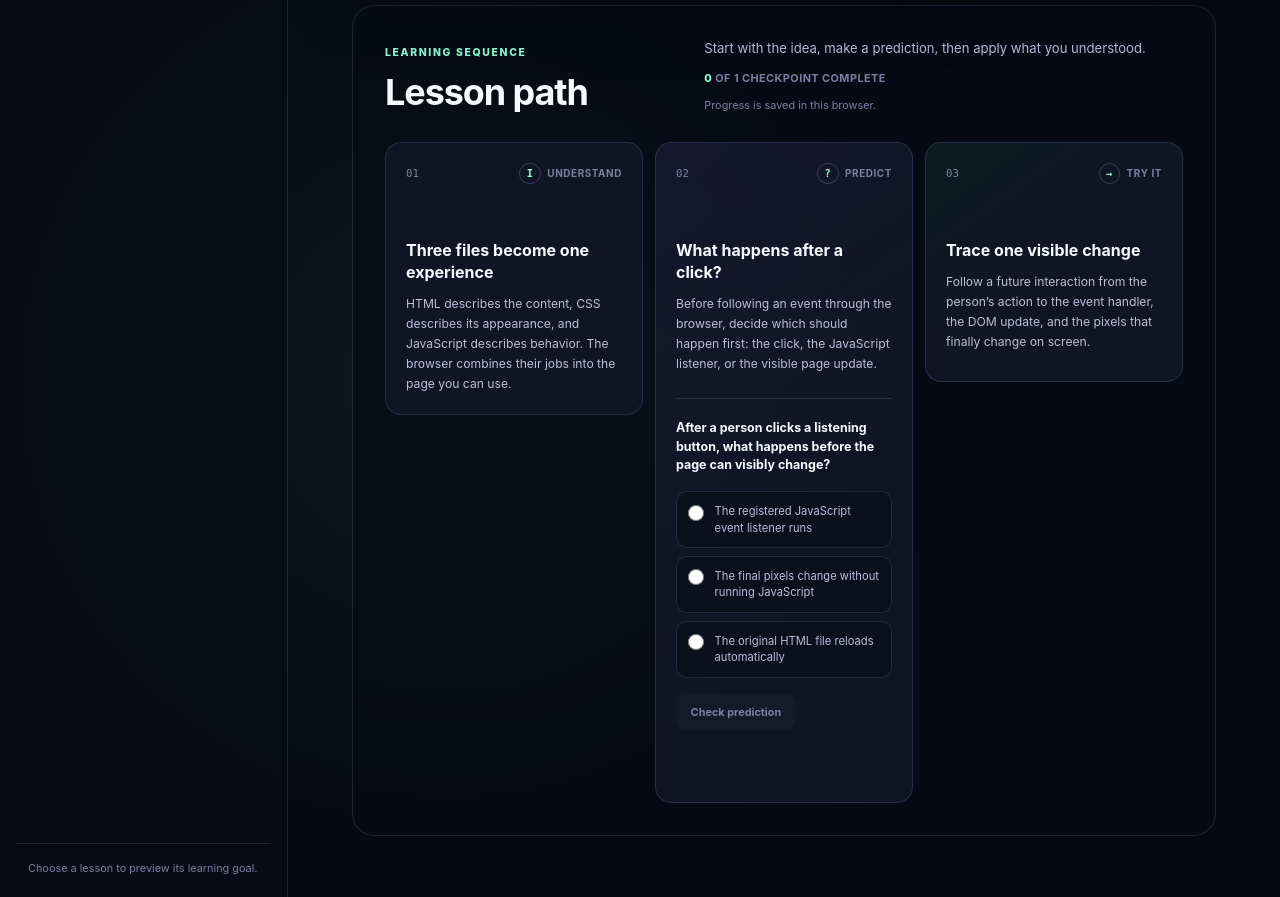
App › keeps progress for each lesson without mixing their totals
(page scrolled)
Step 1. Click the radio button labelled "The registered JavaScript event listener runs" → (696,513), box left=688, top=505, right=704, bottom=521
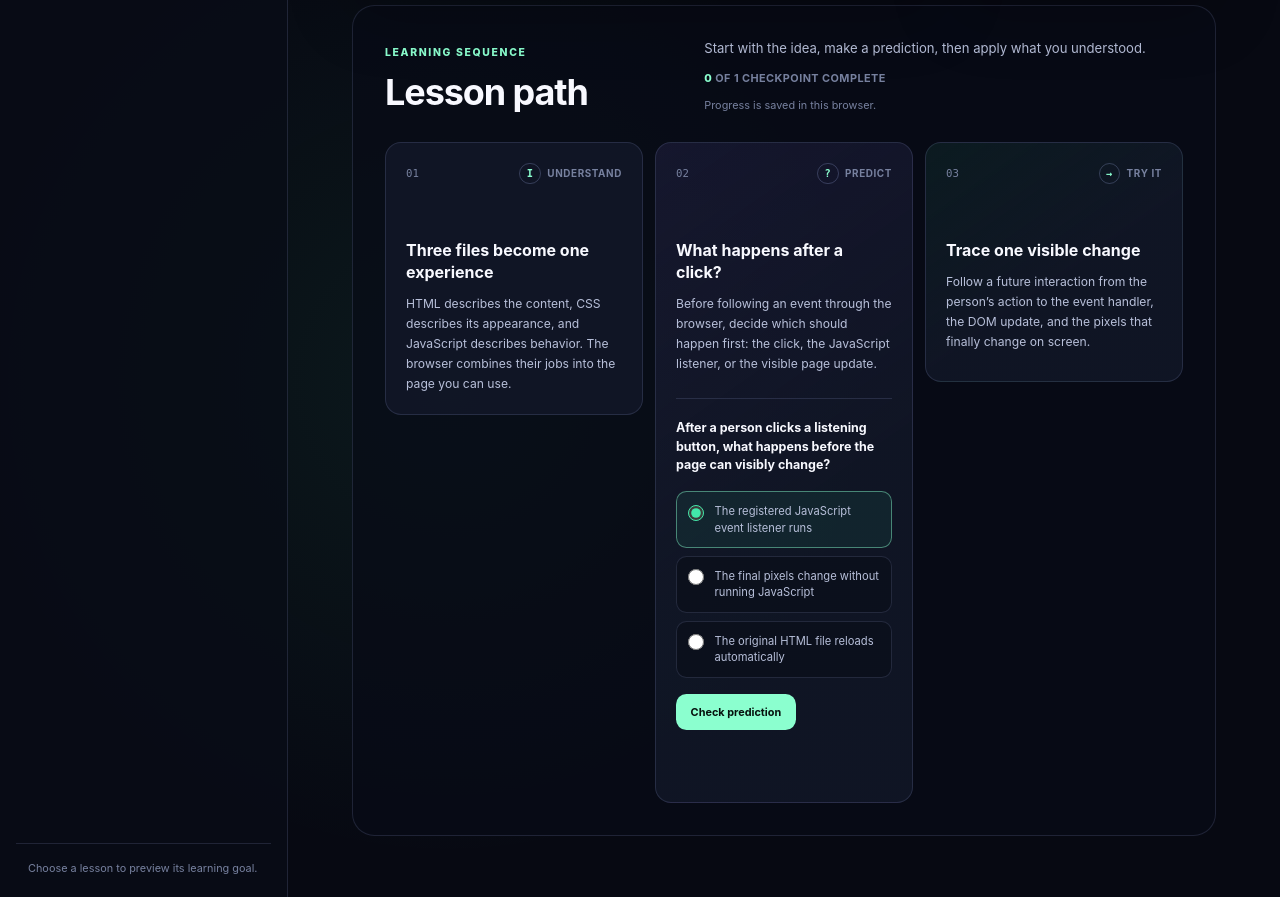
Step 2. Click the button "Check prediction" → (736,712), box left=676, top=694, right=796, bottom=730
(page scrolled)
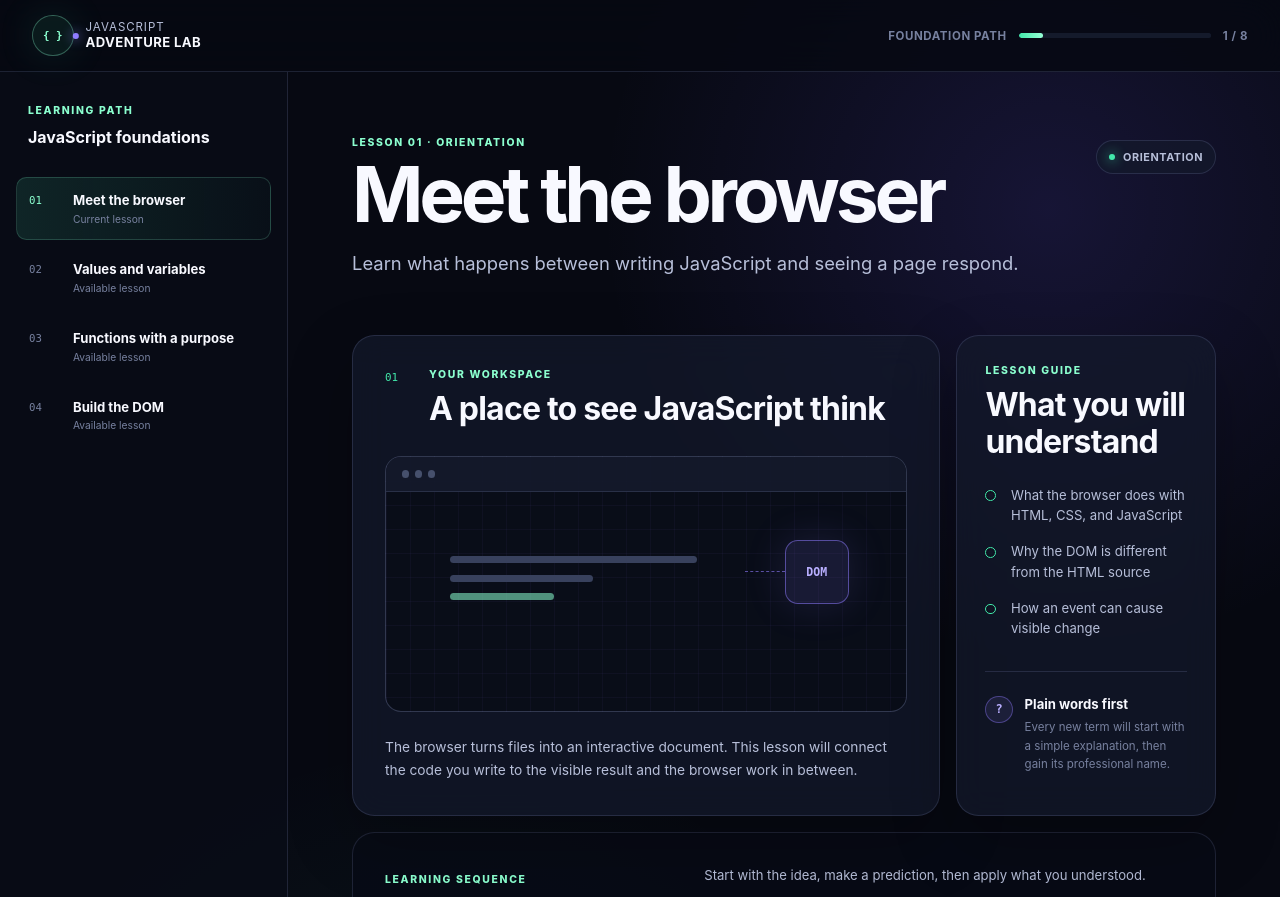
Step 3. Click the link "02 Values and variables Available lesson" → (117,277), box left=29, top=261, right=206, bottom=294
(page scrolled)
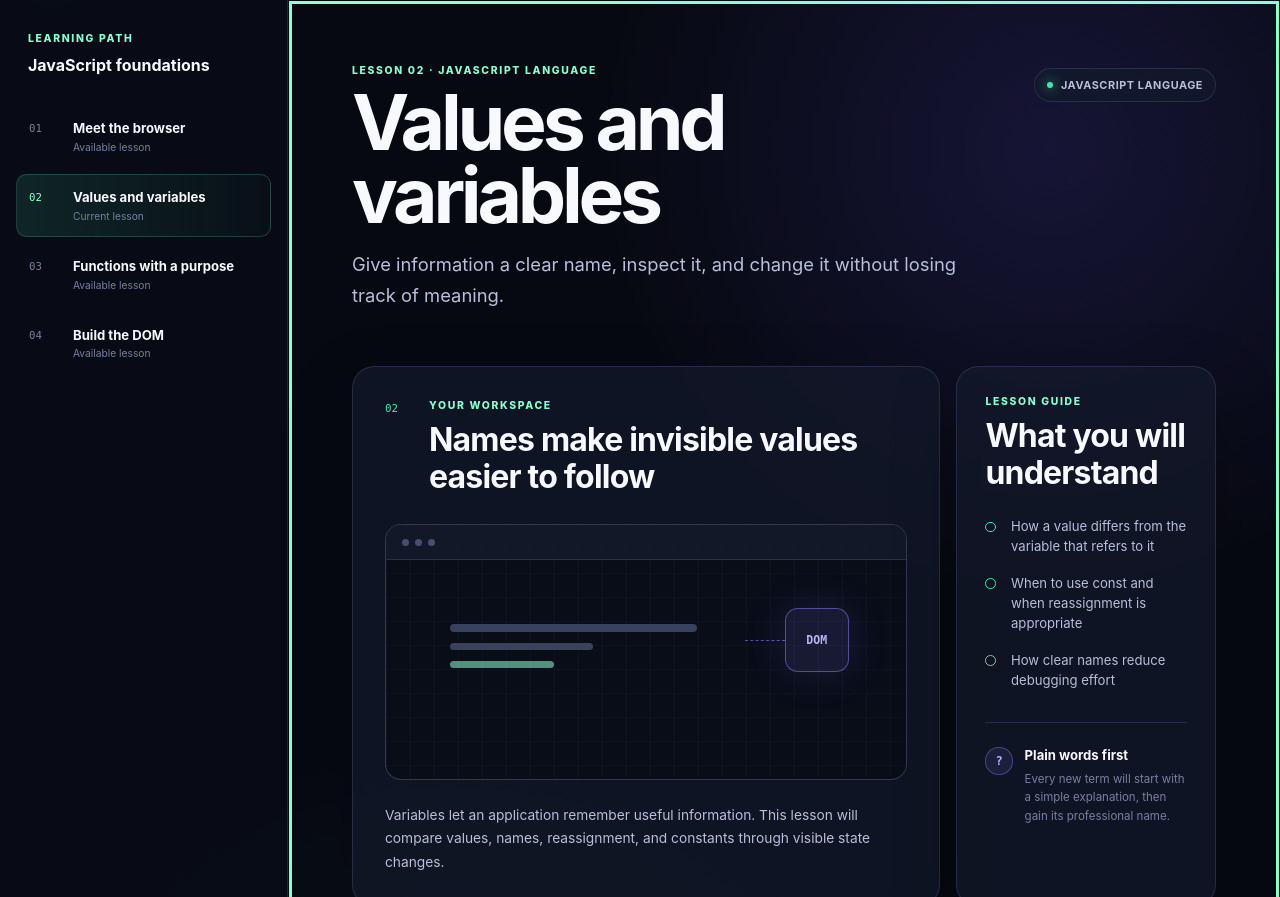
Step 4. Click the link "01 Meet the browser Available lesson" → (107,137), box left=29, top=120, right=185, bottom=153
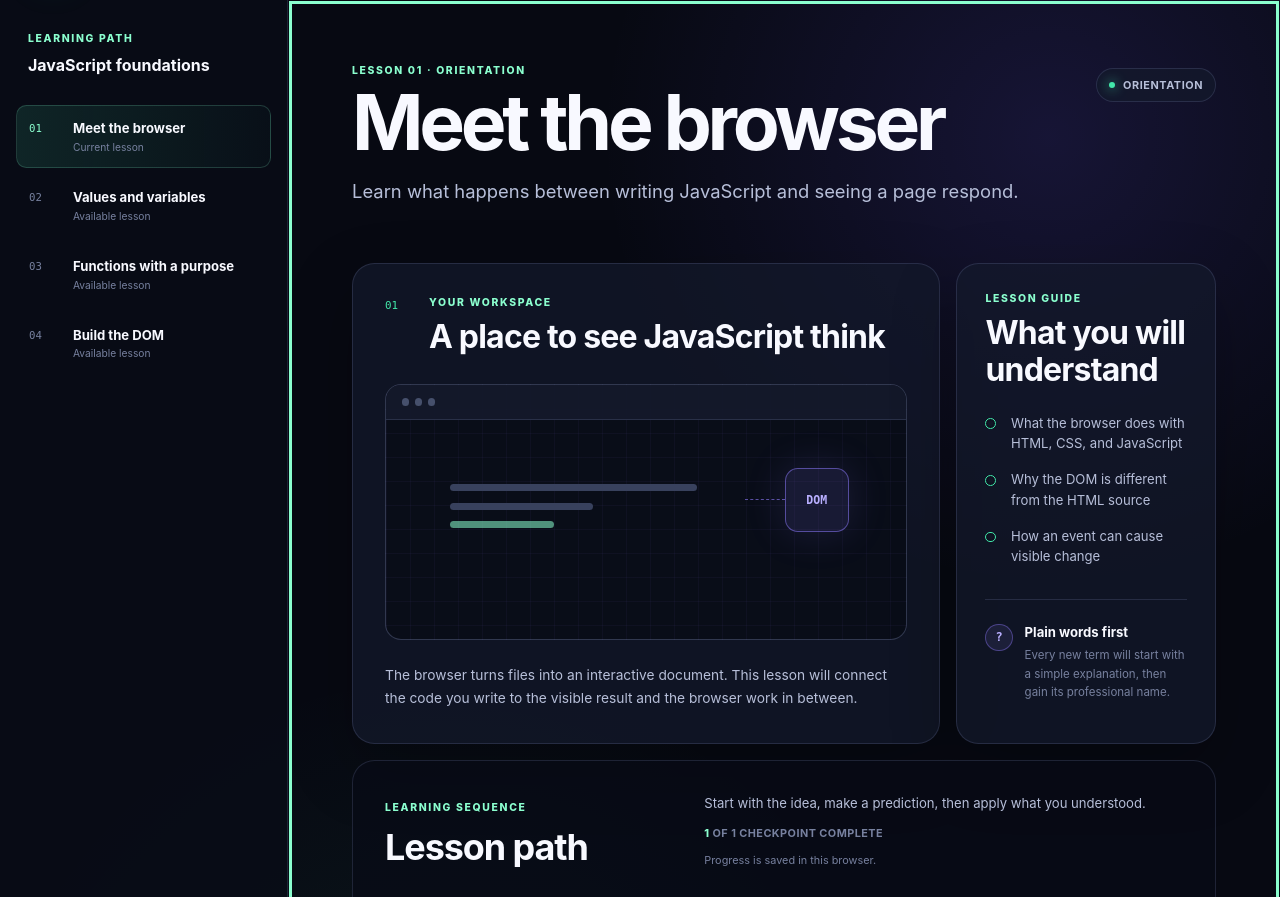
Expected: the message reads "1 of 1 checkpoint complete", left=704, top=826, right=883, bottom=840
